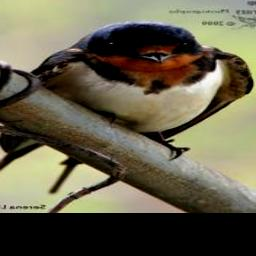Swallow: (0, 21, 255, 192)
